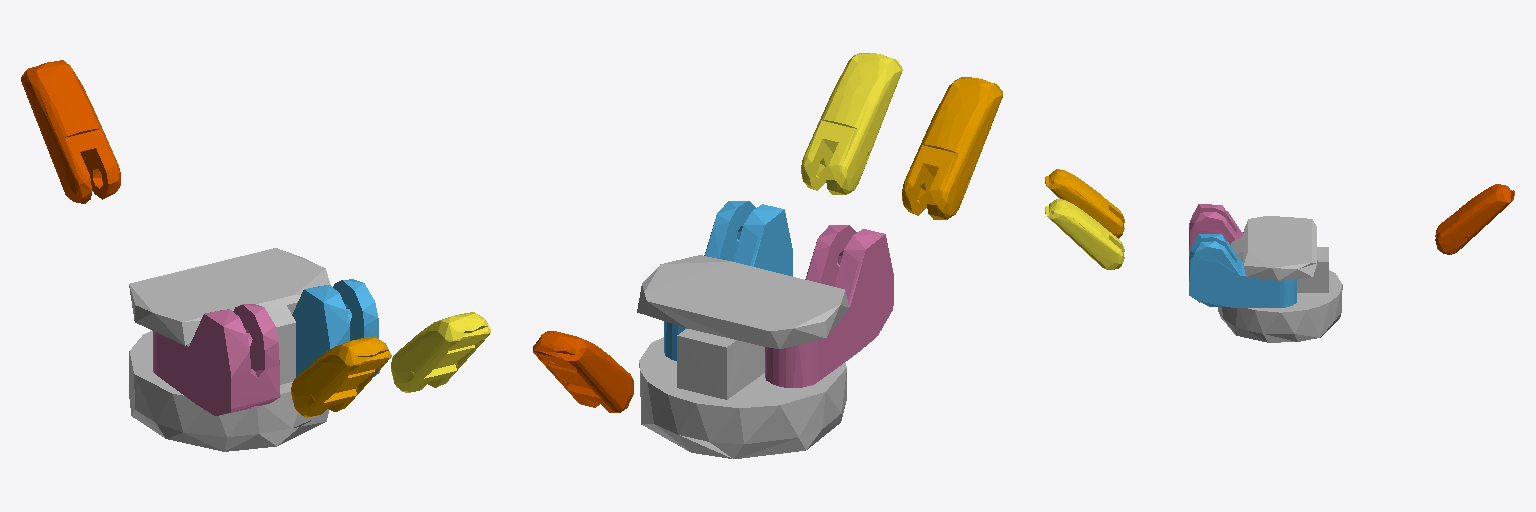
URDF robot description (bhand_):
<?xml version="1.0" ?>
<!-- =================================================================================== -->
<!-- |    This document was autogenerated by xacro from bh_alone.urdf.xacro            | -->
<!-- |    EDITING THIS FILE BY HAND IS NOT RECOMMENDED                                 | -->
<!-- =================================================================================== -->
<robot name="bhand_">
  <link name="base_link">
    <inertial>
      <mass value="0.8"/>
      <origin xyz="0 0 0"/>
      <inertia ixx="1.0" ixy="0.0" ixz="0.0" iyy="1.0" iyz="0.0" izz="1.0"/>
    </inertial>
    <visual>
      <origin rpy="0 0 0" xyz="0 0 0"/>
      <geometry>
        <box size="0.001 0.001 0.001"/>
      </geometry>
    </visual>
    <collision>
      <origin rpy="0 0 0" xyz="0 0 0"/>
      <geometry>
        <box size="0.001 0.001 0.001"/>
      </geometry>
    </collision>
  </link>
  <link name="hand_base_link">
    <inertial>
      <mass value="0.8"/>
      <origin xyz="0 0 0"/>
      <inertia ixx="1.0" ixy="0.0" ixz="0.0" iyy="1.0" iyz="0.0" izz="1.0"/>
    </inertial>
  </link>
  <joint name="hand_joint" type="fixed">
    <origin rpy="0 0 0" xyz="0 0 0"/>
    <parent link="base_link"/>
    <child link="hand_base_link"/>
  </joint>
  <joint name="bh_base_joint" type="fixed">
    <insert_block name="origin"/>
    <parent link="hand_base_link"/>
    <child link="bh_base_link"/>
  </joint>
  <!-- HAND BASE_LINK (RED) -->
  <link name="bh_base_link">
    <inertial>
      <mass value="0.8"/>
      <origin xyz="0 0 0"/>
      <inertia ixx="1.0" ixy="0.0" ixz="0.0" iyy="1.0" iyz="0.0" izz="1.0"/>
    </inertial>
    <visual>
      <origin rpy="0 0 0" xyz="0 0 0"/>
      <geometry>
        <mesh filename="meshes/palm_282.dae"/>
      </geometry>
      <material name="Grey">
        <color rgba="0.75 0.75 0.75 1.0"/>
      </material>
    </visual>
    <collision>
      <origin rpy="0 0 0 " xyz="0 0 0"/>
      <geometry>
        <mesh filename="meshes/palm_282.dae"/>
      </geometry>
      <contact_coefficients kd="1.0" kp="1000.0" mu="0"/>
    </collision>
  </link>
  <!-- finger 3 -->
  <!-- finger 31 link -->
  <link name="bh_finger_31_link">
    <inertial>
      <mass value="0.8"/>
      <origin rpy="0 0 0" xyz="-0.046 0 0"/>
      <inertia ixx="0.01" ixy="0" ixz="0" iyy="0.01" iyz="0" izz="0.01"/>
    </inertial>
    <visual>
      <origin rpy="0 0 0" xyz="-0.04 0 0"/>
      <geometry>
        <mesh filename="meshes/knuckle_fixed.dae"/>
      </geometry>
      <material name="Black"/>
    </visual>
    <collision>
      <origin rpy="0 0 0" xyz="-0.04 0 0"/>
      <geometry>
        <mesh filename="meshes/knuckle_fixed.dae"/>
      </geometry>
      <contact_coefficients kd="1.0" kp="1000.0" mu="0"/>
    </collision>
  </link>
  <!-- joint between BH_palm_link and BH_finger_31_link -->
  <!-- finger3 is the center finger and is fixed -->
  <joint name="bh_j31_joint" type="fixed">
    <parent link="bh_base_link"/>
    <child link="bh_finger_31_link"/>
    <origin rpy="0 0 -1.570796327" xyz="0 0 0.0252"/>
  </joint>
  <!-- finger 32 link -->
  <link name="bh_finger_32_link">
    <inertial>
      <mass value="0.8"/>
      <origin rpy="0 0 0" xyz="0 0 0"/>
      <inertia ixx="0.01" ixy="0" ixz="0" iyy="0.01" iyz="0" izz="0.01"/>
    </inertial>
    <visual>
      <origin rpy="0 0 0" xyz="0 0 0"/>
      <geometry>
        <mesh filename="meshes/finger.dae"/>
      </geometry>
      <material name="Blue"/>
    </visual>
    <collision>
      <origin rpy="0 0 0" xyz="0 0 0"/>
      <geometry>
        <mesh filename="meshes/finger.dae"/>
      </geometry>
      <contact_coefficients kd="1.0" kp="1000.0" mu="0"/>
    </collision>
  </link>
  <!-- joint between BH_finger_31_link and BH_finger_32_link -->
  <joint name="bh_j32_joint" type="revolute">
    <parent link="bh_finger_31_link"/>
    <child link="bh_finger_32_link"/>
    <origin rpy="1.5708 -8.8281E-17 0" xyz="-0.05 0 0.0339"/>
    <axis xyz="0 0 -1"/>
    <limit effort="30.0" lower="0.0" upper="2.44" velocity="2.0"/>
    <dynamics damping="100.0" friction="1.0"/>
  </joint>
  <transmission name="bh_j32_transmission">
    <type>transmission_interface/SimpleTransmission</type>
    <joint name="bh_j32_joint"/>
    <actuator name="bh_j32">
      <hardwareInterface>PositionJointInterface</hardwareInterface>
      <mechanicalReduction>1</mechanicalReduction>
      <motorTorqueConstant>1</motorTorqueConstant>
    </actuator>
  </transmission>
  <!-- finger 33 link -->
  <link name="bh_finger_33_link">
    <inertial>
      <mass value="0.8"/>
      <origin rpy="0 0 0" xyz="0 0 0"/>
      <inertia ixx="0.01" ixy="0" ixz="0" iyy="0.01" iyz="0" izz="0.01"/>
    </inertial>
    <visual>
      <origin rpy="0 0 0" xyz="0 0 0"/>
      <geometry>
        <mesh filename="meshes/finger_tip.dae"/>
      </geometry>
      <material name="Blue"/>
    </visual>
    <collision>
      <origin rpy="0 0 0" xyz="0 0 0"/>
      <geometry>
        <mesh filename="meshes/finger_tip.dae"/>
      </geometry>
      <contact_coefficients kd="1.0" kp="1000.0" mu="0"/>
    </collision>
  </link>
  <!-- joint between BH_finger_32_link and BH_finger_33_link -->
  <joint name="bh_j33_joint" type="revolute">
    <parent link="bh_finger_32_link"/>
    <child link="bh_finger_33_link"/>
    <origin rpy="0 0 0" xyz="-0.069936 0.003 0"/>
    <axis xyz="0 0 -1"/>
    <limit effort="30.0" lower="0.0" upper="0.84" velocity="2.0"/>
    <dynamics damping="100.0" friction="1.0"/>
  </joint>
  <transmission name="bh_j33_transmission">
    <type>transmission_interface/SimpleTransmission</type>
    <joint name="bh_j33_joint"/>
    <actuator name="bh_j33">
      <hardwareInterface>PositionJointInterface</hardwareInterface>
      <mechanicalReduction>1</mechanicalReduction>
      <motorTorqueConstant>1</motorTorqueConstant>
    </actuator>
  </transmission>
  <!-- finger 1 -->
  <!-- finger 11 link -->
  <link name="bh_finger_11_link">
    <inertial>
      <mass value="0.8"/>
      <origin rpy="0 0 0" xyz="-0.046 0 0"/>
      <inertia ixx="0.01" ixy="0" ixz="0" iyy="0.01" iyz="0" izz="0.01"/>
    </inertial>
    <visual>
      <origin rpy="0 0 0" xyz="0 0 0"/>
      <geometry>
        <mesh filename="meshes/knuckle.dae"/>
      </geometry>
      <material name="Green"/>
    </visual>
    <collision>
      <origin rpy="0 0 0" xyz="0 0 0"/>
      <geometry>
        <mesh filename="meshes/knuckle.dae"/>
      </geometry>
    </collision>
  </link>
  <!-- joint between BH_palm_link and BH_finger_11_link -->
  <joint name="bh_j11_joint" type="revolute">
    <parent link="bh_base_link"/>
    <child link="bh_finger_11_link"/>
    <origin rpy="0 0 1.5708" xyz="-0.025 0 0.0252"/>
    <axis xyz="0 0 -1"/>
    <limit effort="30.0" lower="0" upper="3.1416" velocity="2.0"/>
    <dynamics damping="100.0" friction="1.0"/>
  </joint>
  <transmission name="bh_j11_transmission">
    <type>transmission_interface/SimpleTransmission</type>
    <joint name="bh_j11_joint"/>
    <actuator name="bh_j11">
      <hardwareInterface>PositionJointInterface</hardwareInterface>
      <mechanicalReduction>1</mechanicalReduction>
      <motorTorqueConstant>1</motorTorqueConstant>
    </actuator>
  </transmission>
  <!-- finger 12 link -->
  <link name="bh_finger_12_link">
    <inertial>
      <mass value="0.8"/>
      <origin rpy="0 0 0" xyz="0 0 0"/>
      <inertia ixx="0.01" ixy="0" ixz="0" iyy="0.01" iyz="0" izz="0.01"/>
    </inertial>
    <visual>
      <origin rpy="0 0 0" xyz="0 0 0"/>
      <geometry>
        <mesh filename="meshes/finger.dae"/>
      </geometry>
      <material name="Blue"/>
    </visual>
    <collision>
      <origin rpy="0 0 0" xyz="0 0 0"/>
      <geometry>
        <mesh filename="meshes/finger.dae"/>
      </geometry>
      <contact_coefficients kd="1.0" kp="1000.0" mu="0"/>
    </collision>
  </link>
  <!-- joint between BH_finger_11_link and BH_finger_12_link -->
  <joint name="bh_j12_joint" type="revolute">
    <parent link="bh_finger_11_link"/>
    <child link="bh_finger_12_link"/>
    <origin rpy="1.5708 0 0" xyz="-0.05 0 0.0339"/>
    <axis xyz="0 0 -1"/>
    <limit effort="30.0" lower="0.0" upper="2.44" velocity="2.0"/>
    <dynamics damping="100.0" friction="1.0"/>
  </joint>
  <transmission name="bh_j12_transmission">
    <type>transmission_interface/SimpleTransmission</type>
    <joint name="bh_j12_joint"/>
    <actuator name="bh_j12">
      <hardwareInterface>PositionJointInterface</hardwareInterface>
      <mechanicalReduction>1</mechanicalReduction>
      <motorTorqueConstant>1</motorTorqueConstant>
    </actuator>
  </transmission>
  <!-- finger 13 link -->
  <link name="bh_finger_13_link">
    <inertial>
      <mass value="0.8"/>
      <origin rpy="0 0 0" xyz="0 0 0"/>
      <inertia ixx="0.01" ixy="0" ixz="0" iyy="0.01" iyz="0" izz="0.01"/>
    </inertial>
    <visual>
      <origin rpy="0 0 0" xyz="0 0 0"/>
      <geometry>
        <mesh filename="meshes/finger_tip.dae"/>
      </geometry>
      <material name="Blue"/>
    </visual>
    <collision>
      <origin rpy="0 0 0" xyz="0 0 0"/>
      <geometry>
        <mesh filename="meshes/finger_tip.dae"/>
      </geometry>
      <contact_coefficients kd="1.0" kp="1000.0" mu="0"/>
    </collision>
  </link>
  <!-- joint between BH_finger_12_link and BH_finger_13_link -->
  <joint name="bh_j13_joint" type="revolute">
    <parent link="bh_finger_12_link"/>
    <child link="bh_finger_13_link"/>
    <origin rpy="0 0 0" xyz="-0.069936 0.003 0"/>
    <axis xyz="0 0 -1"/>
    <limit effort="30.0" lower="0.0" upper="0.84" velocity="2.0"/>
    <dynamics damping="100.0" friction="1.0"/>
  </joint>
  <transmission name="bh_j13_transmission">
    <type>transmission_interface/SimpleTransmission</type>
    <joint name="bh_j13_joint"/>
    <actuator name="bh_j13">
      <hardwareInterface>PositionJointInterface</hardwareInterface>
      <mechanicalReduction>1</mechanicalReduction>
      <motorTorqueConstant>1</motorTorqueConstant>
    </actuator>
  </transmission>
  <!-- finger 2 -->
  <!-- finger 21 link -->
  <link name="bh_finger_21_link">
    <inertial>
      <mass value="0.8"/>
      <origin rpy="0 0 0" xyz="-0.046 0 0"/>
      <inertia ixx="0.01" ixy="0" ixz="0" iyy="0.01" iyz="0" izz="0.01"/>
    </inertial>
    <visual>
      <origin rpy="0 0 0" xyz="0 0 0"/>
      <geometry>
        <mesh filename="meshes/knuckle.dae"/>
      </geometry>
      <material name="Green"/>
    </visual>
    <collision>
      <origin rpy="0 0 0" xyz="0 0 0"/>
      <geometry>
        <mesh filename="meshes/knuckle.dae"/>
      </geometry>
    </collision>
  </link>
  <!-- joint between BH_palm_link and BH_finger_21_link -->
  <joint name="bh_j21_joint" type="revolute">
    <parent link="bh_base_link"/>
    <child link="bh_finger_21_link"/>
    <origin rpy="0 0 1.5708" xyz="0.025 0 0.0252"/>
    <axis xyz="0 0 1"/>
    <limit effort="30.0" lower="0" upper="3.1416" velocity="2.0"/>
    <dynamics damping="100.0" friction="1.0"/>
  </joint>
  <transmission name="bh_j21_transmission">
    <type>transmission_interface/SimpleTransmission</type>
    <joint name="bh_j21_joint"/>
    <actuator name="bh_j21">
      <hardwareInterface>PositionJointInterface</hardwareInterface>
      <mechanicalReduction>1</mechanicalReduction>
      <motorTorqueConstant>1</motorTorqueConstant>
    </actuator>
  </transmission>
  <!-- finger 12 link -->
  <link name="bh_finger_22_link">
    <inertial>
      <mass value="0.8"/>
      <origin rpy="0 0 0" xyz="0 0 0"/>
      <inertia ixx="0.01" ixy="0" ixz="0" iyy="0.01" iyz="0" izz="0.01"/>
    </inertial>
    <visual>
      <origin rpy="0 0 0" xyz="0 0 0"/>
      <geometry>
        <mesh filename="meshes/finger.dae"/>
      </geometry>
      <material name="Blue"/>
    </visual>
    <collision>
      <origin rpy="0 0 0" xyz="0 0 0"/>
      <geometry>
        <mesh filename="meshes/finger.dae"/>
      </geometry>
      <contact_coefficients kd="1.0" kp="1000.0" mu="0"/>
    </collision>
  </link>
  <!-- joint between BH_finger_21_link and BH_finger_22_link -->
  <joint name="bh_j22_joint" type="revolute">
    <parent link="bh_finger_21_link"/>
    <child link="bh_finger_22_link"/>
    <origin rpy="1.5708 -8.8281E-17 0" xyz="-0.05 0 0.0339"/>
    <axis xyz="0 0 -1"/>
    <limit effort="30.0" lower="0.0" upper="2.44" velocity="2.0"/>
    <dynamics damping="100.0" friction="1.0"/>
  </joint>
  <transmission name="bh_j22_transmission">
    <type>transmission_interface/SimpleTransmission</type>
    <joint name="bh_j22_joint"/>
    <actuator name="bh_j22">
      <hardwareInterface>PositionJointInterface</hardwareInterface>
      <mechanicalReduction>1</mechanicalReduction>
      <motorTorqueConstant>1</motorTorqueConstant>
    </actuator>
  </transmission>
  <!-- finger 23 link -->
  <link name="bh_finger_23_link">
    <inertial>
      <mass value="0.8"/>
      <origin rpy="0 0 0" xyz="0 0 0"/>
      <inertia ixx="0.01" ixy="0" ixz="0" iyy="0.01" iyz="0" izz="0.01"/>
    </inertial>
    <visual>
      <origin rpy="0 0 0" xyz="0 0 0"/>
      <geometry>
        <mesh filename="meshes/finger_tip.dae"/>
      </geometry>
      <material name="Blue"/>
    </visual>
    <collision>
      <origin rpy="0 0 0" xyz="0 0 0"/>
      <geometry>
        <mesh filename="meshes/finger_tip.dae"/>
      </geometry>
      <contact_coefficients kd="1.0" kp="1000.0" mu="0"/>
    </collision>
  </link>
  <!-- joint between BH_finger_22_link and BH_finger_23_link -->
  <joint name="bh_j23_joint" type="revolute">
    <parent link="bh_finger_22_link"/>
    <child link="bh_finger_23_link"/>
    <origin rpy="0 0 0" xyz="-0.069936 0.003 0"/>
    <axis xyz="0 0 -1"/>
    <limit effort="30.0" lower="0.0" upper="0.84" velocity="2.0"/>
    <dynamics damping="100.0" friction="1.0"/>
  </joint>
  <transmission name="bh_j23_transmission">
    <type>transmission_interface/SimpleTransmission</type>
    <joint name="bh_j23_joint"/>
    <actuator name="bh_j23">
      <hardwareInterface>PositionJointInterface</hardwareInterface>
      <mechanicalReduction>1</mechanicalReduction>
      <motorTorqueConstant>1</motorTorqueConstant>
    </actuator>
  </transmission>
  <!-- ros_control plugin -->
  <!--gazebo>
			<plugin name="ros_control" filename="libgazebo_ros_control.so">
			   <robotNamespace>/${name}</robotNamespace>
			   <controlPeriod>0.001</controlPeriod>
			   <robotSimType>gazebo_ros_control/DefaultRobotHWSim</robotSimType>
			</plugin>
		</gazebo-->
  <gazebo reference="bh_base_link">
    <material>Gazebo/White</material>
    <turnGravityOff>false</turnGravityOff>
  </gazebo>
  <gazebo reference="bh_finger_31_link">
    <material>Gazebo/Grey</material>
    <turnGravityOff>false</turnGravityOff>
  </gazebo>
  <gazebo reference="bh_finger_32_link">
    <material>Gazebo/Grey</material>
    <turnGravityOff>false</turnGravityOff>
  </gazebo>
  <gazebo reference="bh_finger_33_link">
    <material>Gazebo/Grey</material>
    <turnGravityOff>false</turnGravityOff>
  </gazebo>
  <gazebo reference="bh_finger_11_link">
    <material>Gazebo/Grey</material>
    <turnGravityOff>false</turnGravityOff>
  </gazebo>
  <gazebo reference="bh_finger_12_link">
    <material>Gazebo/Grey</material>
    <turnGravityOff>false</turnGravityOff>
  </gazebo>
  <gazebo reference="bh_finger_13_link">
    <material>Gazebo/Grey</material>
    <turnGravityOff>false</turnGravityOff>
  </gazebo>
  <gazebo reference="bh_finger_21_link">
    <material>Gazebo/Grey</material>
    <turnGravityOff>false</turnGravityOff>
  </gazebo>
  <gazebo reference="bh_finger_22_link">
    <material>Gazebo/Grey</material>
    <turnGravityOff>false</turnGravityOff>
  </gazebo>
  <gazebo reference="bh_finger_23_link">
    <material>Gazebo/Grey</material>
    <turnGravityOff>false</turnGravityOff>
  </gazebo>
</robot>

--- Render facts (derived) ---
The picture shows the robot from 3 angles, left to right: view 1: azimuth 30°, elevation 25°; view 2: azimuth 150°, elevation 25°; view 3: azimuth 270°, elevation 25°; orthographic projection.
Robot: bhand_ — 12 links, 11 joints (8 revolute, 3 fixed); root link base_link; default pose: all joints at 0.
Links seen in each view (by area): view 1: bh_base_link, bh_finger_11_link, bh_finger_33_link, bh_finger_21_link, bh_finger_13_link, bh_finger_23_link; view 2: bh_base_link, bh_finger_11_link, bh_finger_13_link, bh_finger_23_link, bh_finger_21_link, bh_finger_33_link; view 3: bh_base_link, bh_finger_21_link, bh_finger_23_link, bh_finger_33_link, bh_finger_13_link, bh_finger_11_link.
Link boxes in pixels (x1,y1,x2,y2): bh_base_link: (129,248,330,451); bh_finger_11_link: (152,304,280,415); bh_finger_33_link: (21,60,120,203); bh_finger_21_link: (292,279,379,376); bh_finger_13_link: (291,336,391,417); bh_finger_23_link: (391,312,490,392); bh_base_link: (637,255,848,458); bh_finger_11_link: (765,225,893,387); bh_finger_13_link: (902,77,1002,219); bh_finger_23_link: (801,53,902,194); bh_finger_21_link: (664,201,792,360); bh_finger_33_link: (533,331,633,412); bh_base_link: (1218,216,1342,342); bh_finger_21_link: (1189,234,1296,307); bh_finger_23_link: (1045,199,1124,269); bh_finger_33_link: (1435,184,1514,254); bh_finger_13_link: (1045,169,1124,238); bh_finger_11_link: (1189,204,1242,251).
Size in the robot's own frame: 0.0898 by 0.3353 by 0.103 metres.
6 mesh visuals loaded from 5 distinct referenced files (3 Collada DAE); not drawn: 4 (reference not matched to a file when rendering).
